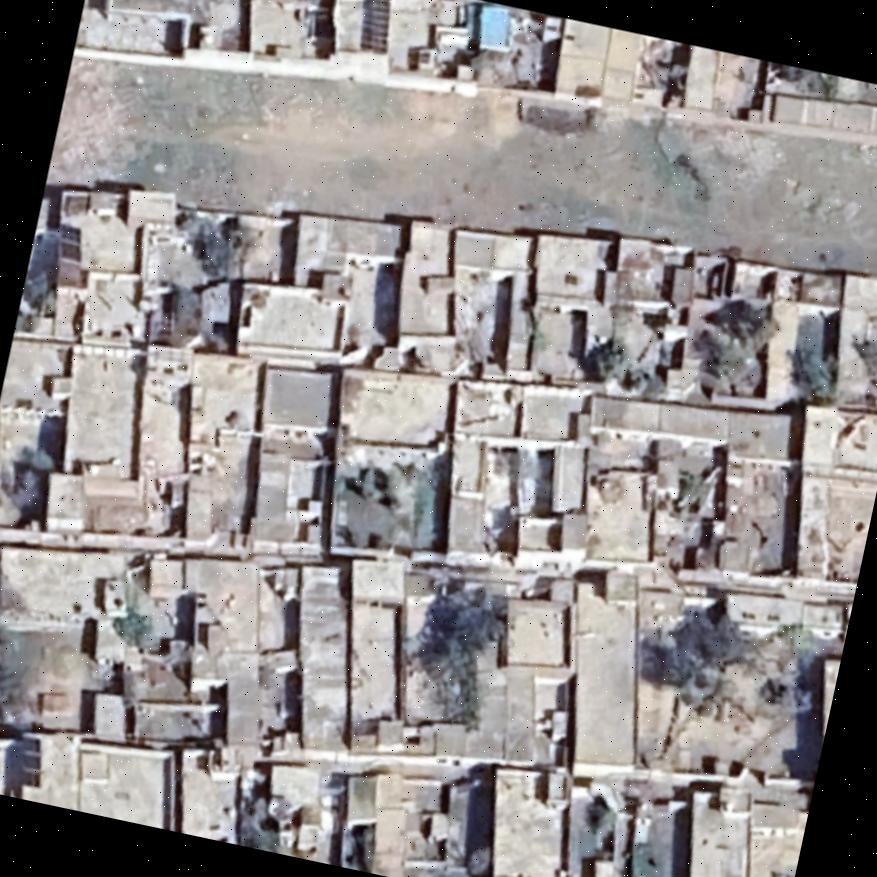Solarpanel: (347, 0, 403, 60), (15, 733, 44, 791)
